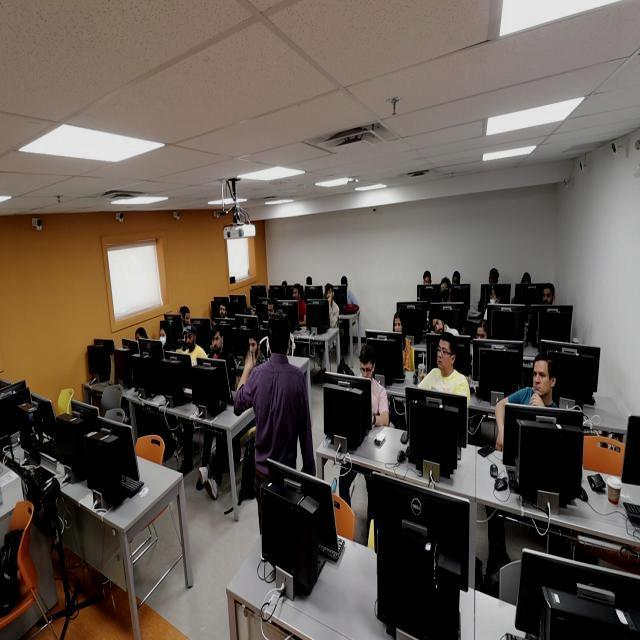Looking away: (358, 345, 376, 380), (248, 333, 260, 356), (476, 323, 488, 344), (432, 316, 444, 336), (186, 331, 197, 352), (267, 300, 276, 316), (182, 307, 190, 325)
Looking forward: (532, 359, 552, 397), (436, 337, 454, 372), (210, 326, 223, 354), (542, 286, 554, 306), (392, 314, 402, 336), (218, 303, 226, 318)
